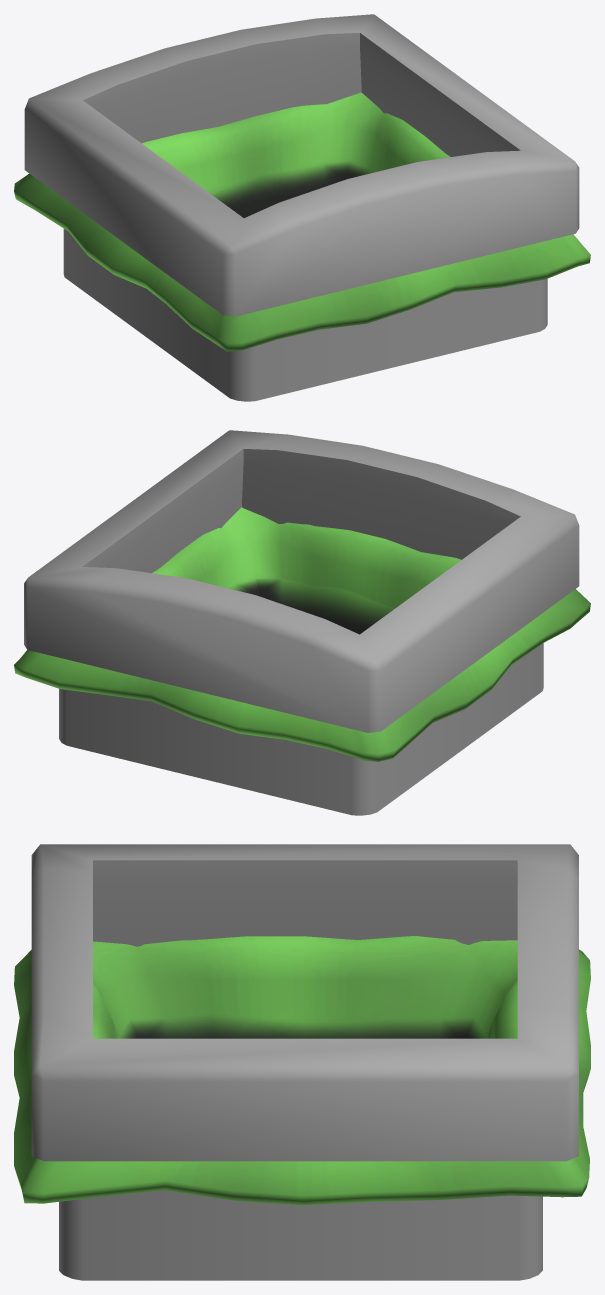
File: bin.obj
The picture shows the model from 3 angles, top to bottom: view 1: azimuth 30°, elevation 25°; view 2: azimuth 150°, elevation 25°; view 3: azimuth 270°, elevation 25°; orthographic projection. The views are drawn at different scales.
Parts seen in each view (by area): view 1: Cube_Cube.001; view 2: Cube_Cube.001; view 3: Cube_Cube.001.
Part boxes in pixels (x1=…): Cube_Cube.001: x1=14, y1=14, x2=590, y2=401; Cube_Cube.001: x1=14, y1=430, x2=590, y2=815; Cube_Cube.001: x1=14, y1=844, x2=590, y2=1280.
Size of the model in its own units: 3.64 by 1.71 by 3.62.
1 material, 1 textured.
